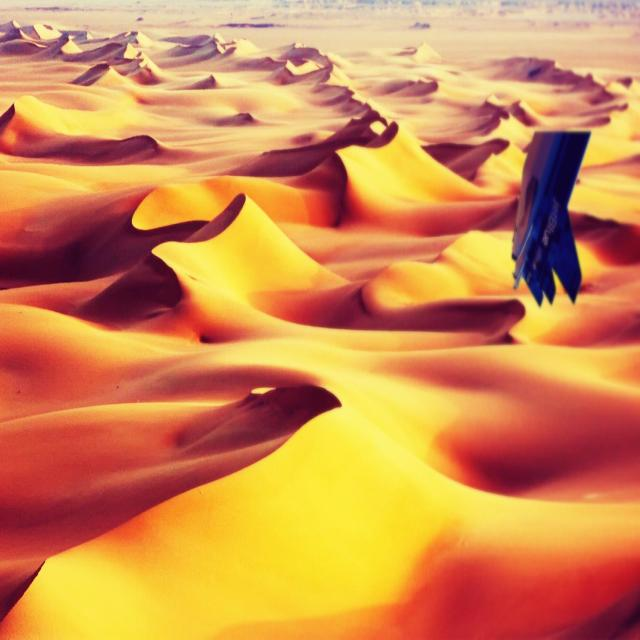airplane: (509, 130, 592, 310)
